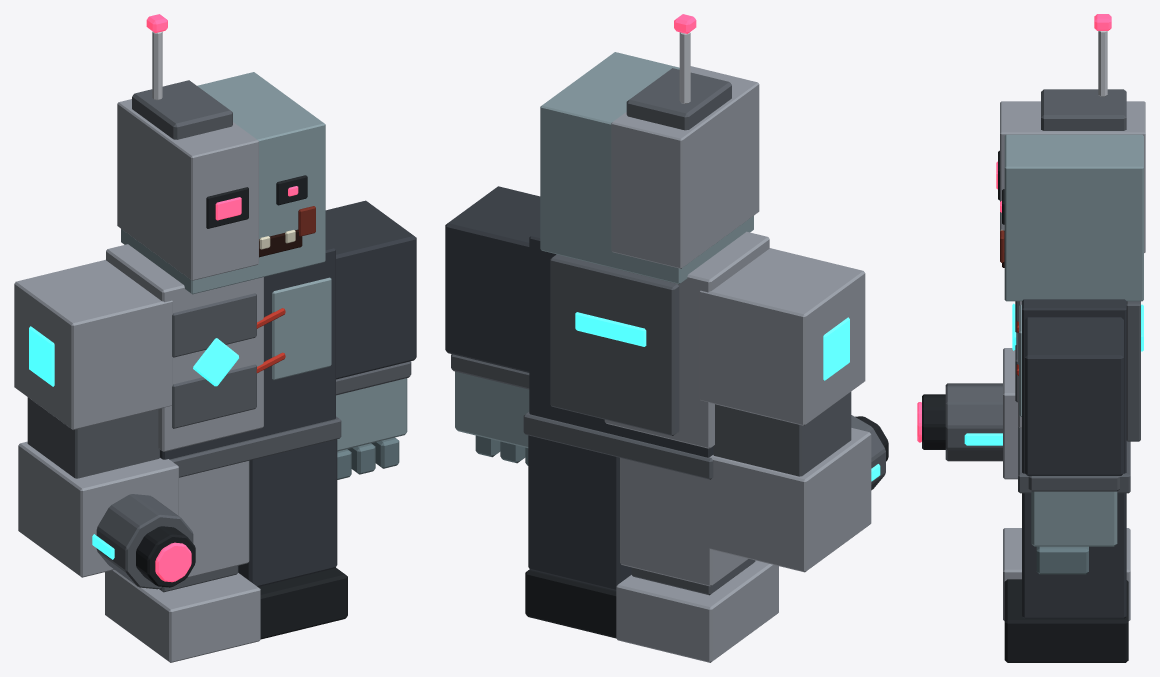
The model's file is myw_zombiecyborg.glb.
3 renders of one model, left to right at view 1: azimuth 30°, elevation 25°; view 2: azimuth 150°, elevation 25°; view 3: azimuth 270°, elevation 25°, orthographic. The views are drawn at different scales.
Visible parts, largest first — view 1: RightArm, Head, Torso, LeftArm, RightLeg, LeftLeg, Cannon, Hat; view 2: RightArm, Head, Torso, RightLeg, LeftArm, LeftLeg, Hat, Cannon; view 3: Head, LeftArm, LeftLeg, Torso, Cannon, Hat, RightArm, RightLeg.
Part boxes in pixels (x1,y1,x2,y2): RightArm: [14, 259, 178, 577]; Head: [117, 72, 325, 294]; Torso: [106, 242, 341, 477]; LeftArm: [325, 200, 416, 479]; RightLeg: [105, 461, 260, 662]; LeftLeg: [238, 439, 347, 639]; Cannon: [92, 494, 195, 589]; Hat: [132, 14, 232, 139]; RightArm: [699, 248, 871, 572]; Head: [540, 52, 759, 284]; Torso: [523, 229, 769, 479]; RightLeg: [616, 458, 778, 662]; LeftArm: [445, 186, 540, 465]; LeftLeg: [525, 435, 631, 638]; Hat: [626, 14, 731, 130]; Cannon: [851, 415, 888, 490]; Head: [996, 101, 1145, 301]; LeftArm: [1024, 317, 1123, 574]; LeftLeg: [1004, 493, 1128, 662]; Torso: [1012, 299, 1143, 493]; Cannon: [917, 383, 1002, 461]; Hat: [1041, 14, 1126, 130]; RightArm: [1003, 348, 1017, 479]; RightLeg: [1003, 528, 1130, 620].
Bounding box in the file's own units: 4.14 × 6.73 × 2.4.
